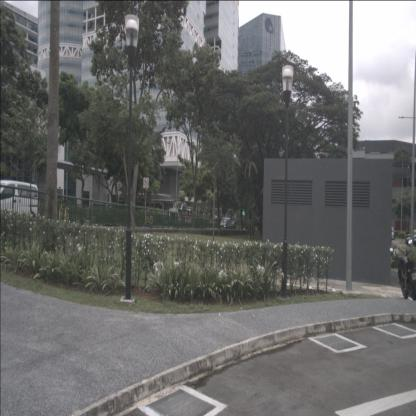vehicle-bicycle: (58, 199, 71, 222)
vehicle-car: (0, 179, 41, 224), (220, 218, 233, 230), (405, 234, 416, 248), (209, 218, 219, 228), (227, 220, 236, 230)
vehicle-motorcycle: (390, 251, 416, 304)
